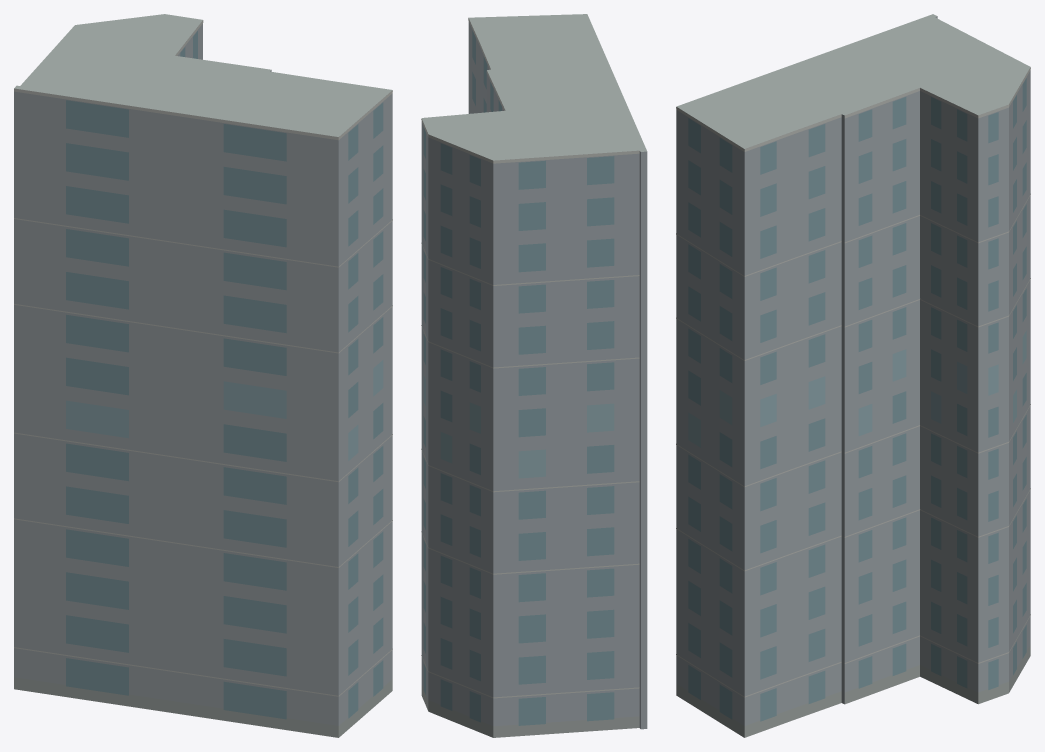
The model's file is survey-upis-32964120.glb.
3 views of the same model, side by side, from view 1: azimuth 30°, elevation 25°; view 2: azimuth 150°, elevation 25°; view 3: azimuth 270°, elevation 25° (orthographic). The views are drawn at different scales.
Parts seen in each view (by area): view 1: survey-upis-32964120.tmp; view 2: survey-upis-32964120.tmp; view 3: survey-upis-32964120.tmp.
Part boxes in pixels (<box>): survey-upis-32964120.tmp: <box>14,14,392,737</box>; survey-upis-32964120.tmp: <box>421,14,647,737</box>; survey-upis-32964120.tmp: <box>676,14,1030,737</box>.
Bounding box in the file's own units: 22.7 × 46.12 × 25.18.
